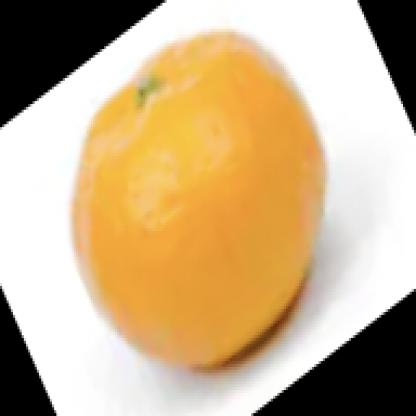orange: (66, 27, 330, 371)
